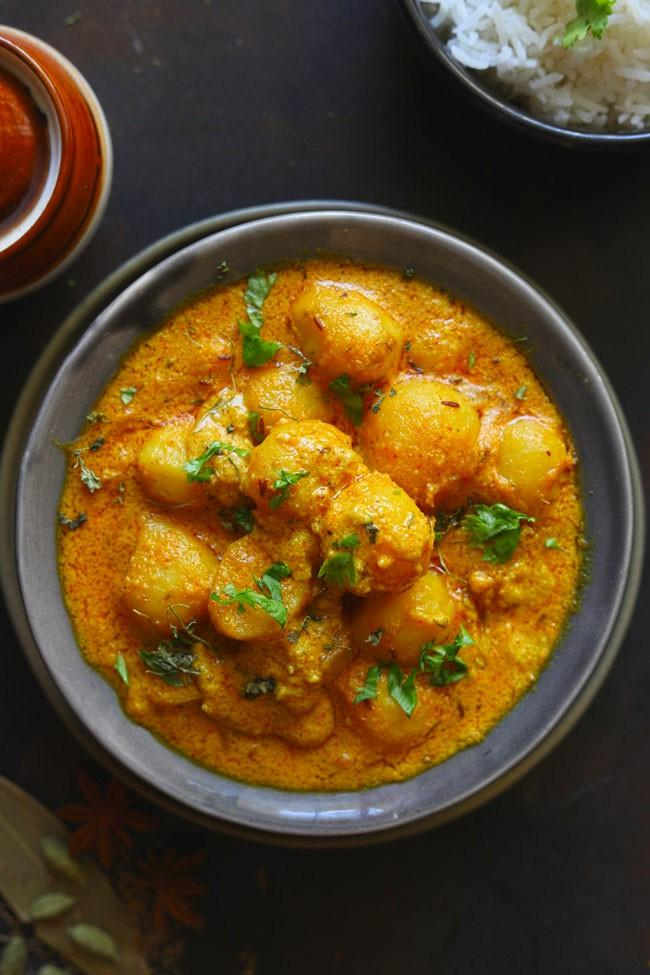DumAloo: (59, 262, 575, 789)
